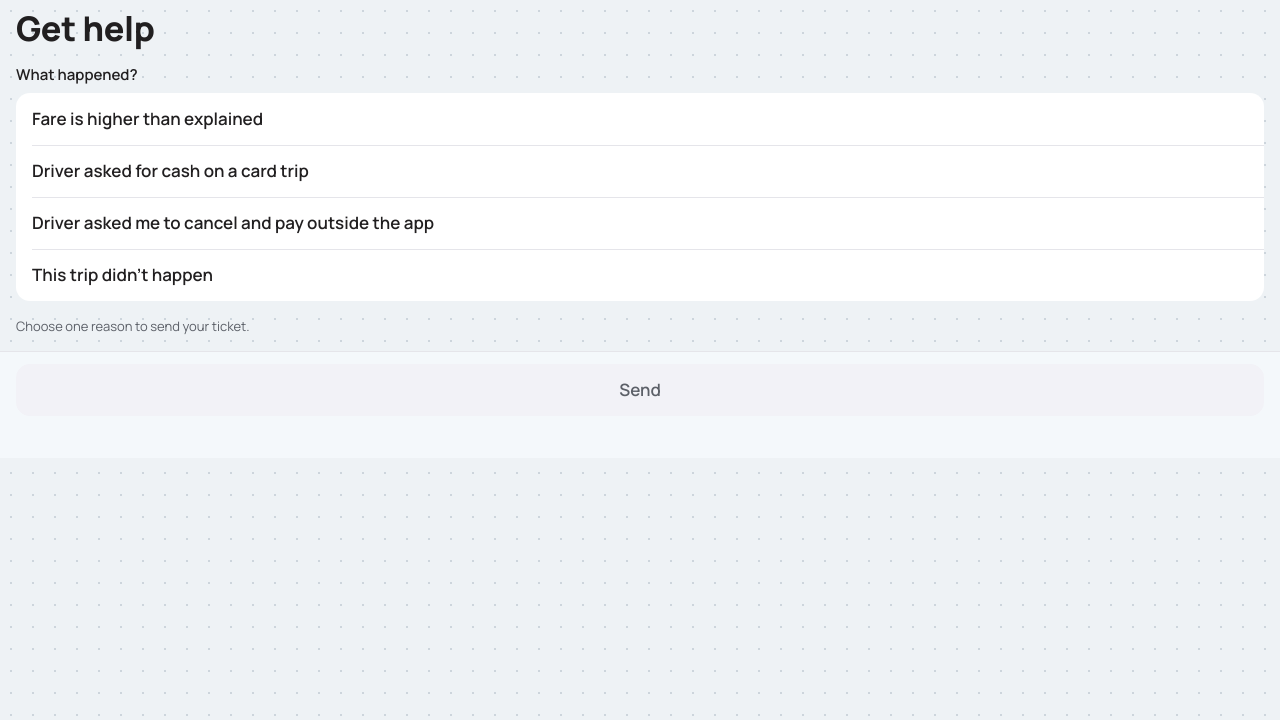
Test case: Help › adds the on-hold line only when a change is flagged
The width and height of the screenshot is (1280, 720).
Click the radio button labelled "Fare is higher than explained".
click(148, 118)  # box x1=16 y1=93 x2=1264 y2=145
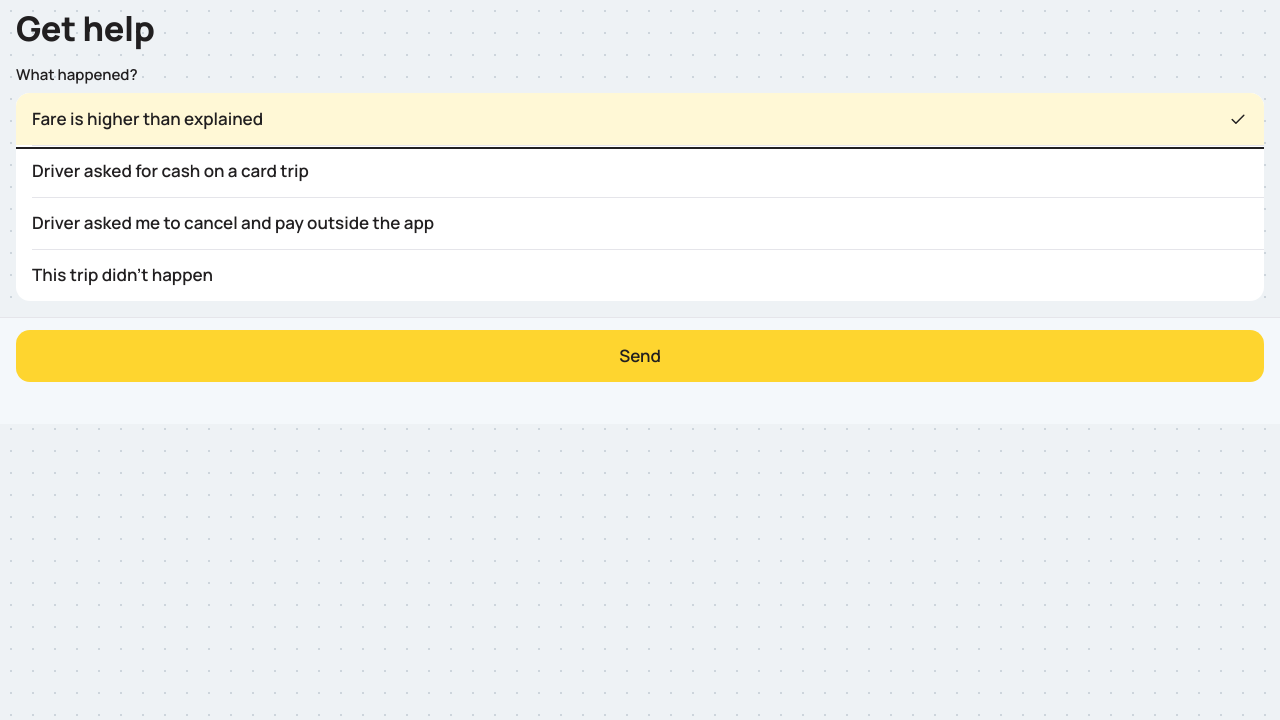
Click the button "Send".
click(640, 356)  # box x1=16 y1=330 x2=1264 y2=382
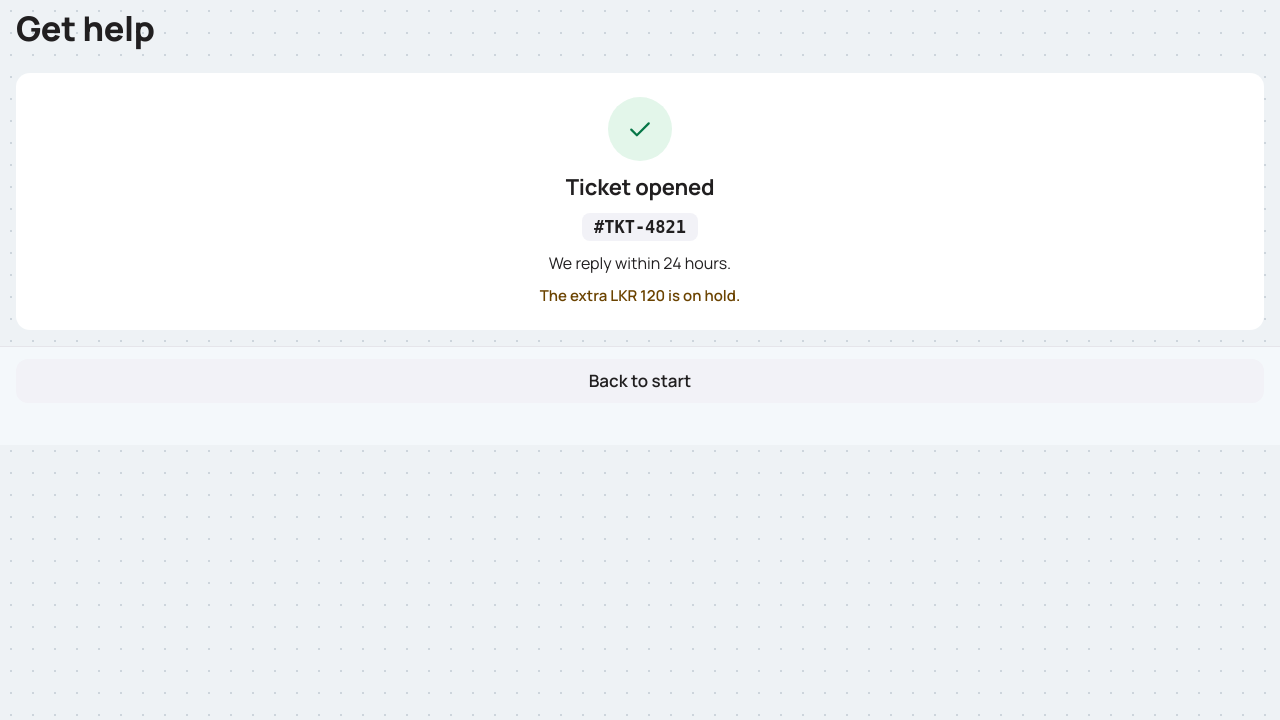
Expected: the message shows "The extra LKR 120 is on hold.", x1=540 y1=285 x2=740 y2=306
